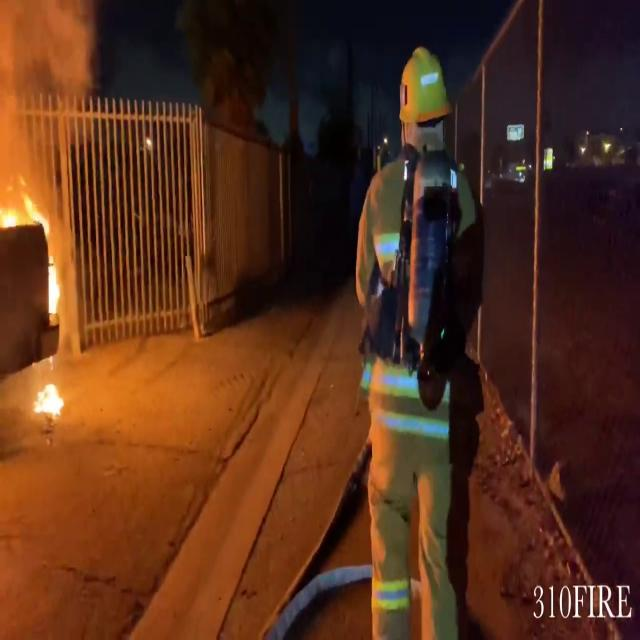Fire: (0, 166, 49, 244), (31, 375, 69, 420)
